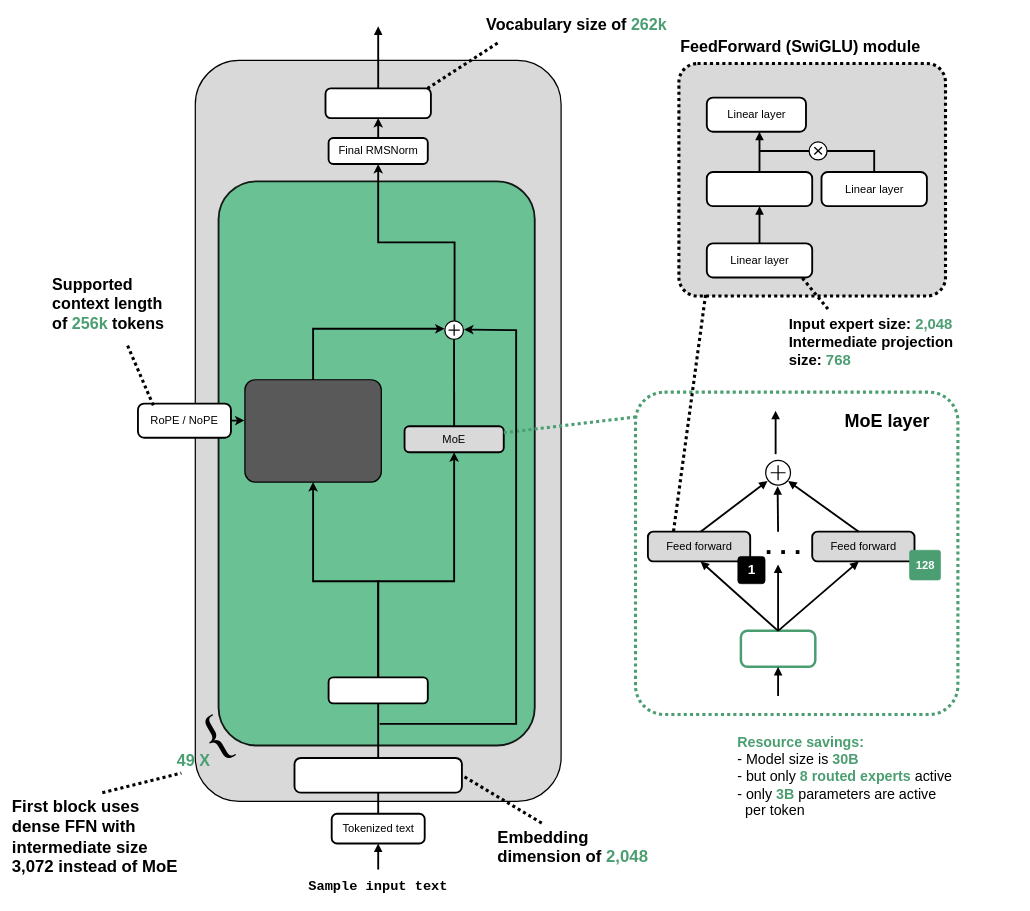
Some shapes in this 1030 by 911 pixel diagram are drawn without their labels. The shapes that lost their labels are listed below. From the top down, each one's centre as x and y in pixels, then its label:
the point at 378,103: Linear output layer
the point at 759,189: SiLU activation
the point at 313,430: Grouped Query Attention( GQA ) + Sliding Window Attention( SWA ) in 3:1 ratio
the point at 777,648: Router
the point at 377,690: LayerNorm
the point at 378,775: Token embedding layer
